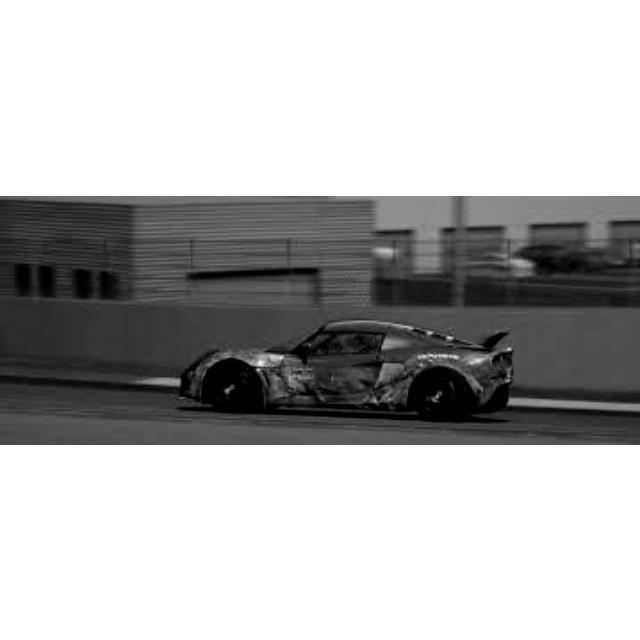doorouter-dent: (294, 359, 370, 407)
fender-dent: (207, 352, 278, 375)
quaterpanel-dent: (425, 351, 492, 386)
